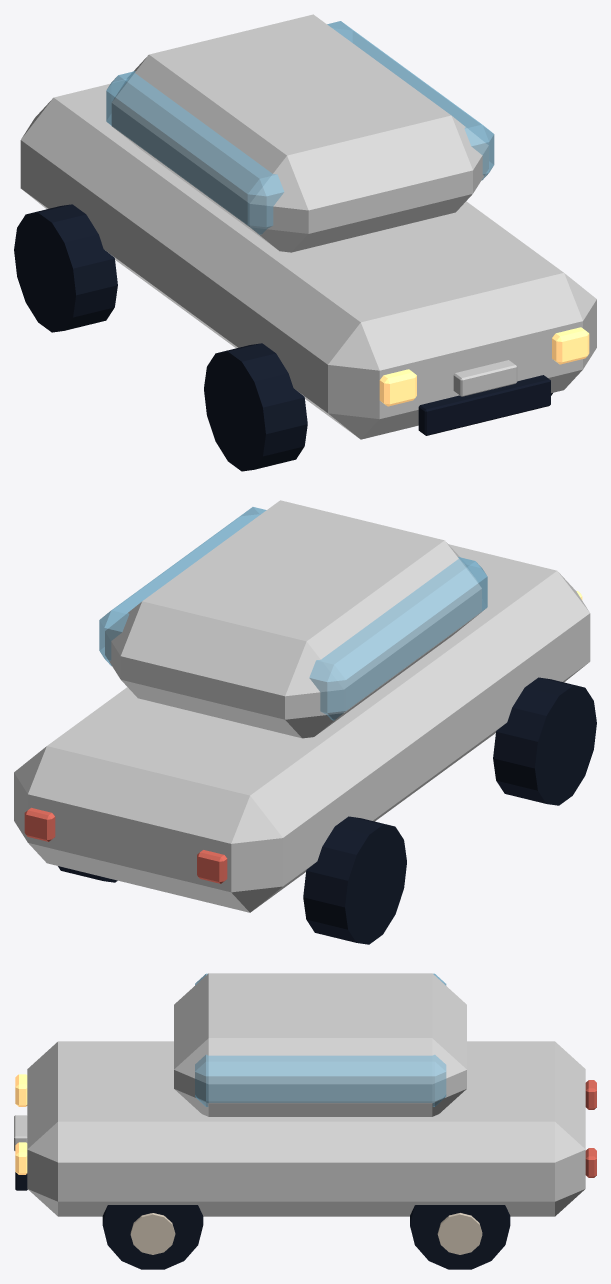
Rendered from town-car.glb.
The picture shows the model from 3 angles, top to bottom: view 1: azimuth 30°, elevation 25°; view 2: azimuth 150°, elevation 25°; view 3: azimuth 270°, elevation 25°; orthographic projection. The views are drawn at different scales.
Parts seen in each view (by area): view 1: BODY_Traffic1_car; view 2: BODY_Traffic1_car; view 3: BODY_Traffic1_car.
Boxes of the visible parts, left/top/right/bottom form: BODY_Traffic1_car: left=14, top=14, right=596, bottom=471; BODY_Traffic1_car: left=14, top=500, right=596, bottom=944; BODY_Traffic1_car: left=14, top=973, right=596, bottom=1269.
Bounding box in the file's own units: 2.14 × 1.69 × 4.18.
